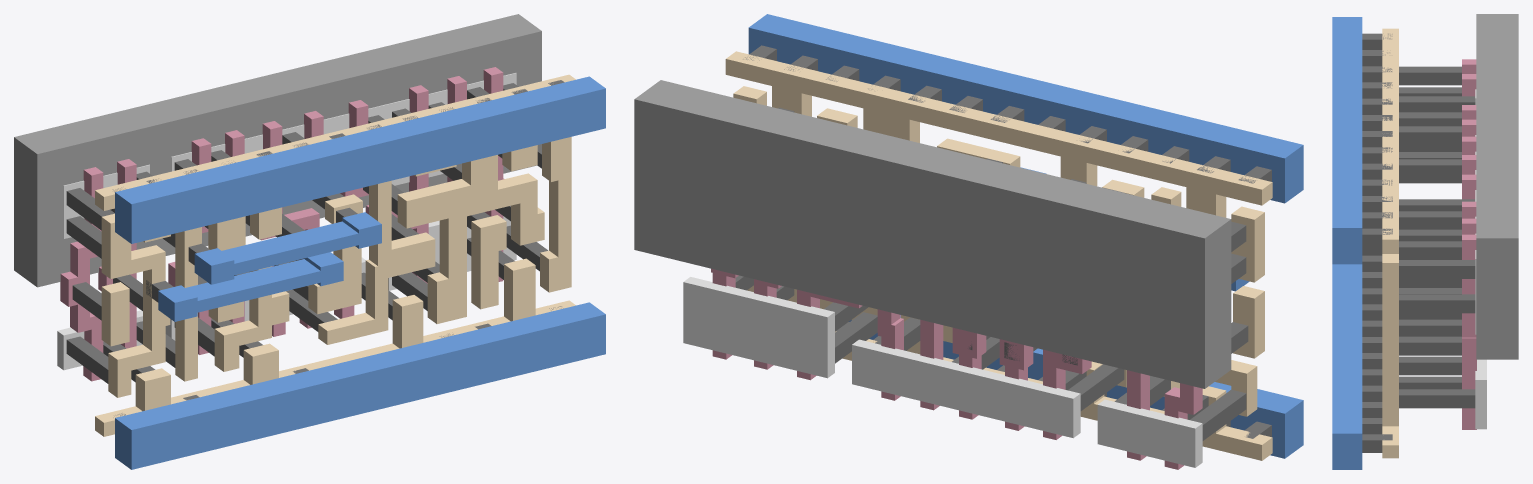
The model's file is sky130_fd_sc_hd__dlrtp_1.gds.gltf.
3 views of the same model, side by side, from view 1: azimuth 30°, elevation 25°; view 2: azimuth 150°, elevation 25°; view 3: azimuth 270°, elevation 25° (orthographic). The views are drawn at different scales.
Visible parts, largest first — view 1: sky130_fd_sc_hd__dlrtp_1_met1, sky130_fd_sc_hd__dlrtp_1_li1, sky130_fd_sc_hd__dlrtp_1_nwell, sky130_fd_sc_hd__dlrtp_1_licon, sky130_fd_sc_hd__dlrtp_1_poly, sky130_fd_sc_hd__dlrtp_1_diff, sky130_fd_sc_hd__dlrtp_1_mcon; view 2: sky130_fd_sc_hd__dlrtp_1_nwell, sky130_fd_sc_hd__dlrtp_1_li1, sky130_fd_sc_hd__dlrtp_1_met1, sky130_fd_sc_hd__dlrtp_1_diff, sky130_fd_sc_hd__dlrtp_1_poly, sky130_fd_sc_hd__dlrtp_1_licon, sky130_fd_sc_hd__dlrtp_1_mcon; view 3: sky130_fd_sc_hd__dlrtp_1_licon, sky130_fd_sc_hd__dlrtp_1_nwell, sky130_fd_sc_hd__dlrtp_1_met1, sky130_fd_sc_hd__dlrtp_1_mcon, sky130_fd_sc_hd__dlrtp_1_li1, sky130_fd_sc_hd__dlrtp_1_poly, sky130_fd_sc_hd__dlrtp_1_diff.
Boxes of the visible parts, x1,y1,x2,y2 form: sky130_fd_sc_hd__dlrtp_1_met1: (115, 76, 605, 469); sky130_fd_sc_hd__dlrtp_1_li1: (95, 74, 575, 436); sky130_fd_sc_hd__dlrtp_1_nwell: (14, 14, 541, 287); sky130_fd_sc_hd__dlrtp_1_licon: (66, 83, 547, 383); sky130_fd_sc_hd__dlrtp_1_poly: (60, 67, 504, 381); sky130_fd_sc_hd__dlrtp_1_diff: (57, 73, 516, 370); sky130_fd_sc_hd__dlrtp_1_mcon: (112, 80, 564, 417); sky130_fd_sc_hd__dlrtp_1_nwell: (634, 80, 1231, 388); sky130_fd_sc_hd__dlrtp_1_li1: (725, 51, 1272, 460); sky130_fd_sc_hd__dlrtp_1_met1: (748, 14, 1303, 458); sky130_fd_sc_hd__dlrtp_1_diff: (683, 277, 1202, 467); sky130_fd_sc_hd__dlrtp_1_poly: (711, 268, 1202, 469); sky130_fd_sc_hd__dlrtp_1_licon: (735, 107, 1248, 440); sky130_fd_sc_hd__dlrtp_1_mcon: (743, 45, 1271, 438); sky130_fd_sc_hd__dlrtp_1_licon: (1399, 66, 1475, 408); sky130_fd_sc_hd__dlrtp_1_nwell: (1476, 14, 1518, 359); sky130_fd_sc_hd__dlrtp_1_met1: (1332, 17, 1362, 469); sky130_fd_sc_hd__dlrtp_1_mcon: (1362, 33, 1392, 452); sky130_fd_sc_hd__dlrtp_1_li1: (1382, 28, 1398, 458); sky130_fd_sc_hd__dlrtp_1_poly: (1462, 59, 1476, 429); sky130_fd_sc_hd__dlrtp_1_diff: (1475, 89, 1486, 429).
Bounding box in the file's own units: 6.36 × 3.2 × 2.24.
